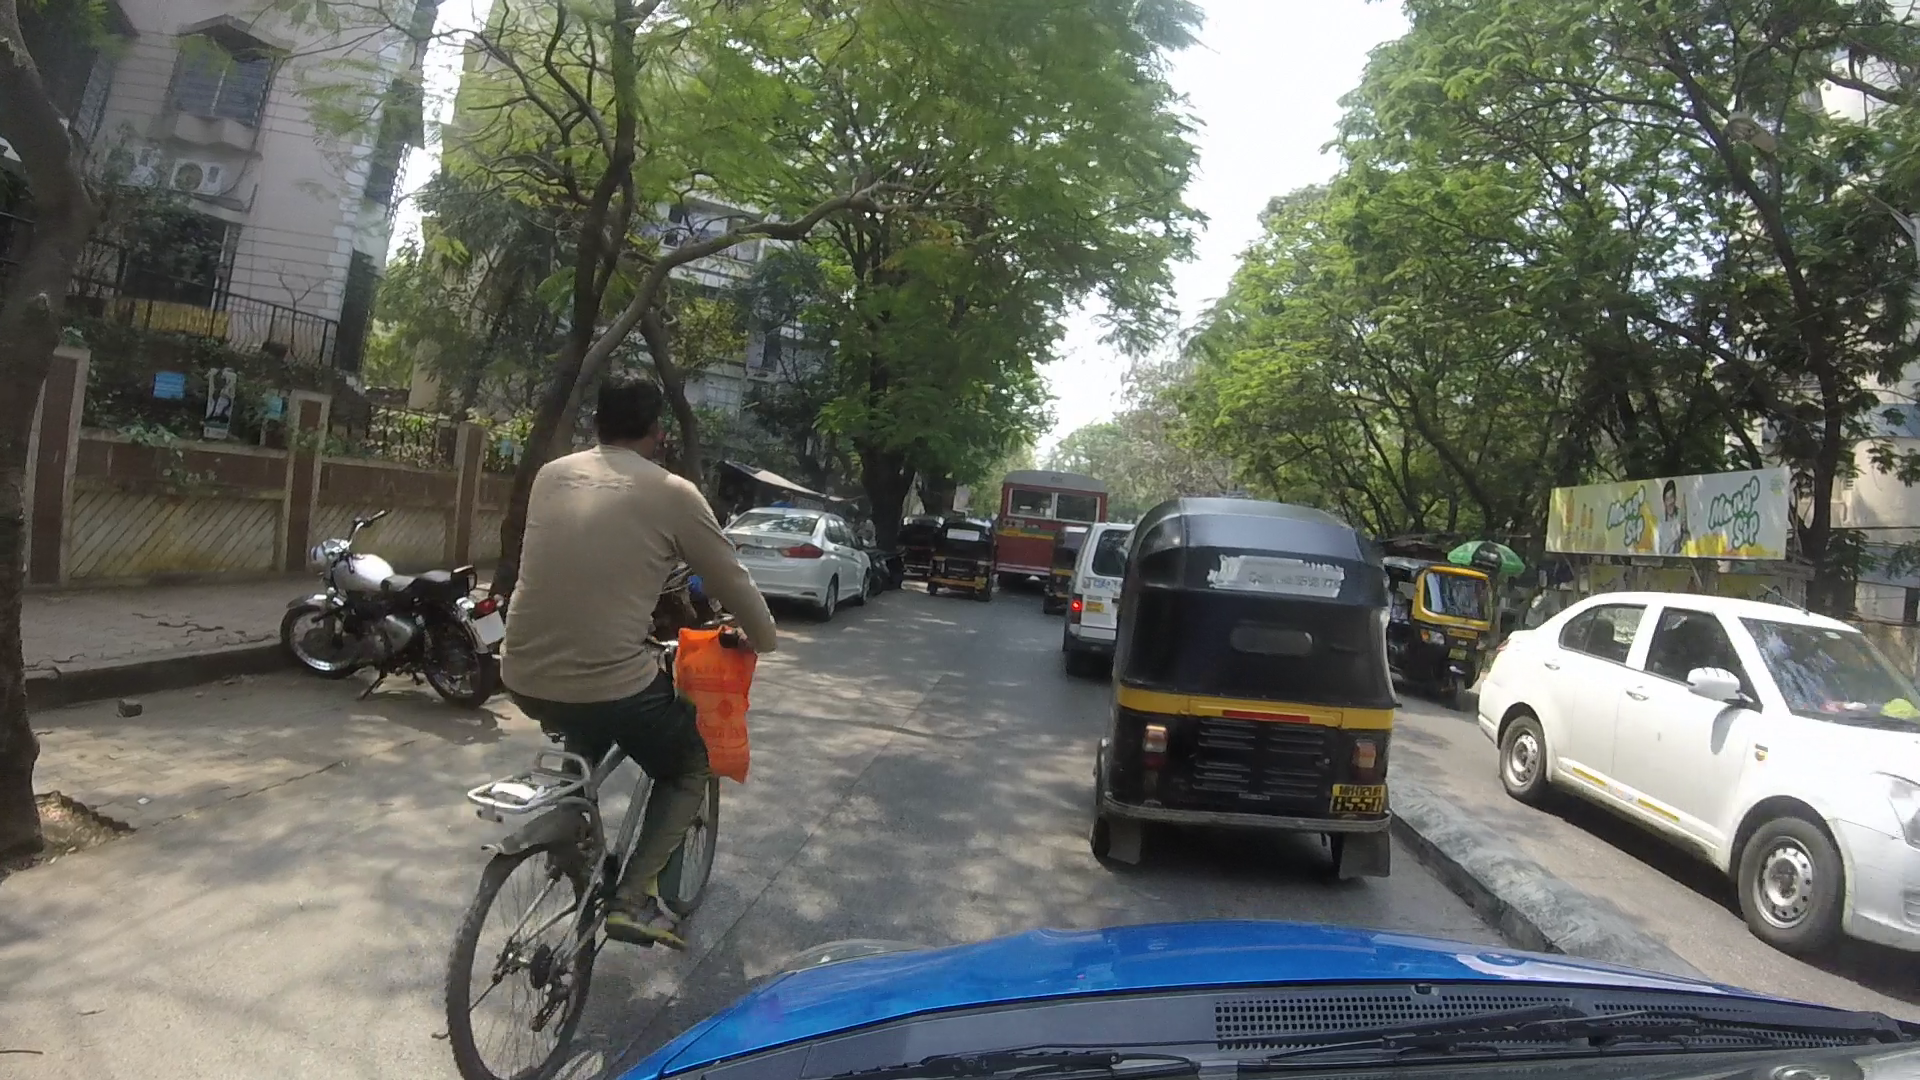bike/scooter: (265, 484, 513, 735)
bus: (981, 452, 1101, 597)
car: (713, 484, 874, 646), (1465, 603, 1560, 808), (1051, 512, 1133, 657)
rickshaw: (1083, 512, 1422, 884), (1379, 549, 1499, 705), (916, 500, 1007, 625)
